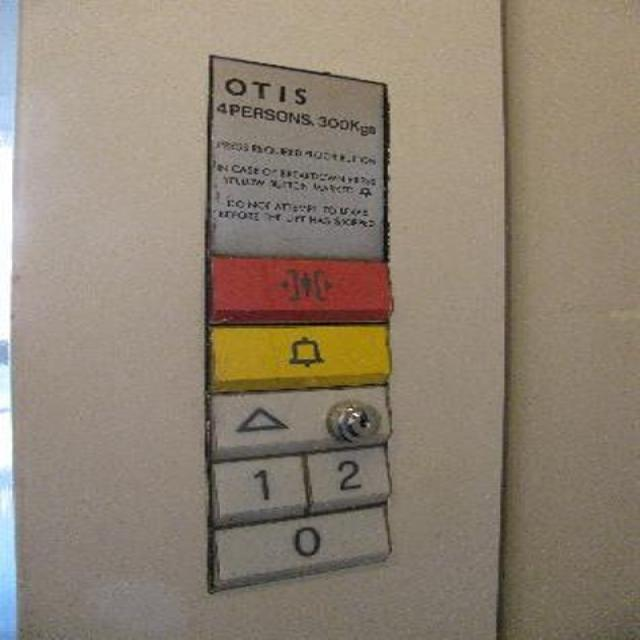0: (199, 495, 396, 598)
1: (200, 449, 315, 531)
2: (294, 442, 394, 518)
alarm: (198, 316, 394, 396)
open: (197, 249, 396, 330)
up: (200, 378, 396, 454)
